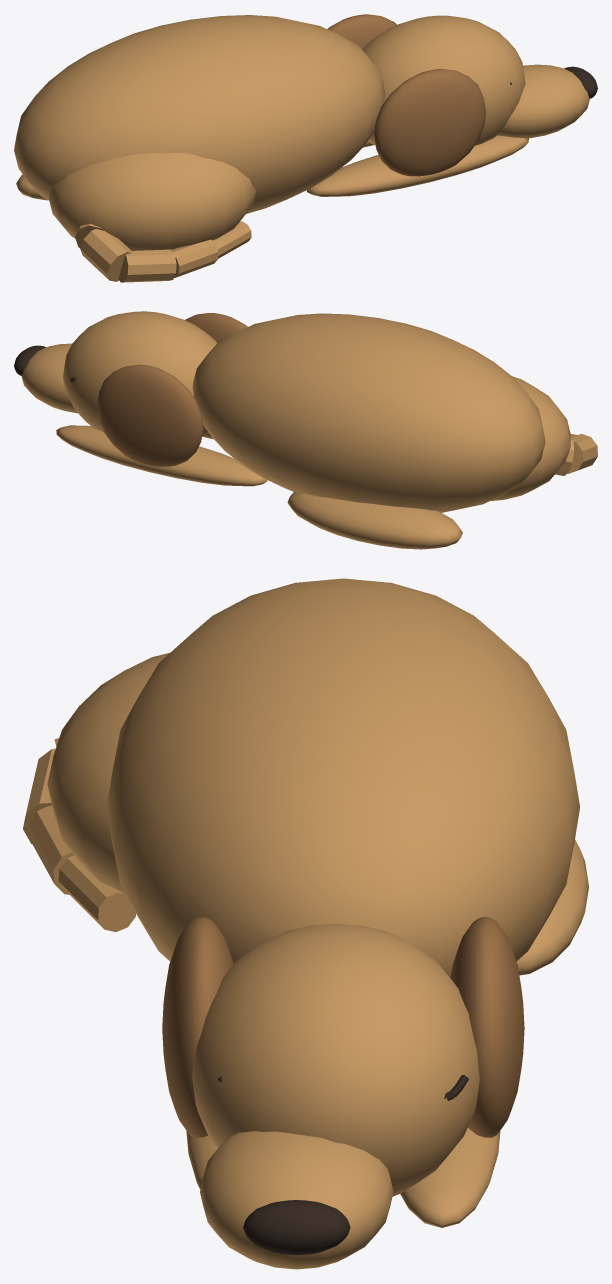
File: dog_v06c.glb
The picture shows the model from 3 angles, top to bottom: view 1: azimuth 30°, elevation 25°; view 2: azimuth 150°, elevation 25°; view 3: azimuth 270°, elevation 25°; orthographic projection. The views are drawn at different scales.
Visible parts, largest first — view 1: VIS_SleepingDog; view 2: VIS_SleepingDog; view 3: VIS_SleepingDog.
Boxes of the visible parts, left/top/right/bottom form: VIS_SleepingDog: left=14, top=14, right=597, bottom=282; VIS_SleepingDog: left=14, top=311, right=597, bottom=549; VIS_SleepingDog: left=23, top=578, right=588, bottom=1269.
Size of the model in its own units: 0.5848 by 0.172 by 0.2715.
